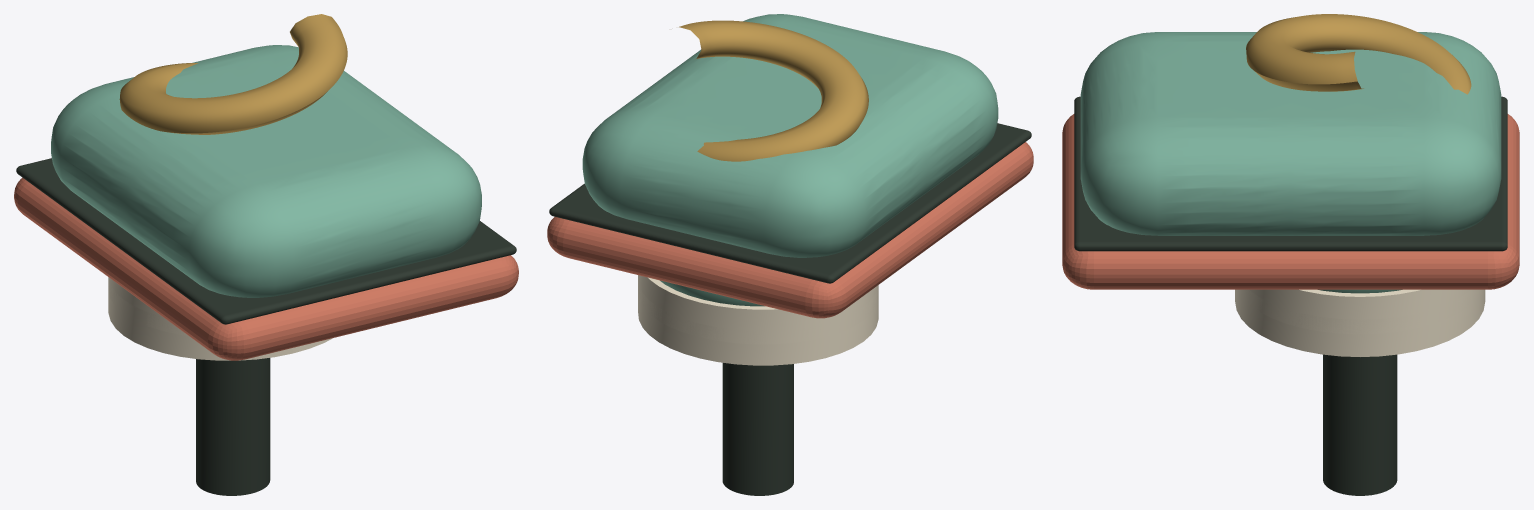
File: hotshot-leg-0.glb
The picture shows the model from 3 angles, left to right: view 1: azimuth 30°, elevation 25°; view 2: azimuth 150°, elevation 25°; view 3: azimuth 270°, elevation 25°; orthographic projection. The views are drawn at different scales.
Visible parts, largest first — view 1: foot_clay, foot_hardware (×2), lower_hardware (×2), upper_hardware (×2); view 2: foot_clay, foot_hardware (×2), lower_hardware (×2), upper_hardware (×2), upper_clay; view 3: foot_clay, foot_hardware (×2), lower_hardware (×2), upper_hardware (×2).
Boxes of the visible parts, <box> form: foot_clay: <box>51,45,481,297</box>; foot_hardware (×2): <box>14,158,518,360</box>; lower_hardware (×2): <box>108,14,347,360</box>; upper_hardware (×2): <box>108,277,270,495</box>; foot_clay: <box>582,14,998,257</box>; foot_hardware (×2): <box>547,123,1033,318</box>; lower_hardware (×2): <box>638,20,878,365</box>; upper_hardware (×2): <box>638,275,878,495</box>; upper_clay: <box>660,280,764,306</box>; foot_clay: <box>1080,32,1501,235</box>; foot_hardware (×2): <box>1062,96,1519,289</box>; lower_hardware (×2): <box>1235,14,1485,356</box>; upper_hardware (×2): <box>1246,289,1474,495</box>.
Size of the model in its own units: 0.6072 by 0.8476 by 0.7568.
